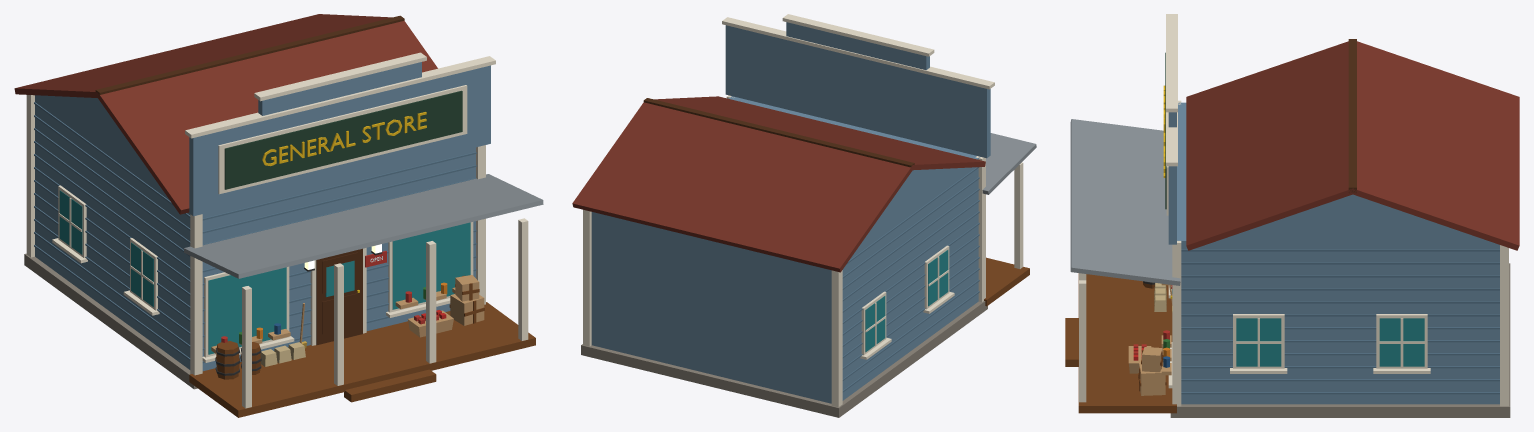
The model's file is Building_GeneralStore.fbx.
3 renders of one model, left to right at view 1: azimuth 30°, elevation 25°; view 2: azimuth 150°, elevation 25°; view 3: azimuth 270°, elevation 25°, orthographic. The views are drawn at different scales.
Parts seen in each view (by area): view 1: Building_GeneralStore; view 2: Building_GeneralStore; view 3: Building_GeneralStore.
Part boxes in pixels (x1,y1,x2,y2): Building_GeneralStore: (14,14,543,417); Building_GeneralStore: (572,14,1036,417); Building_GeneralStore: (1065,14,1519,417).
Bounding box in the file's own units: 8.6 × 7.5 × 11.1.
